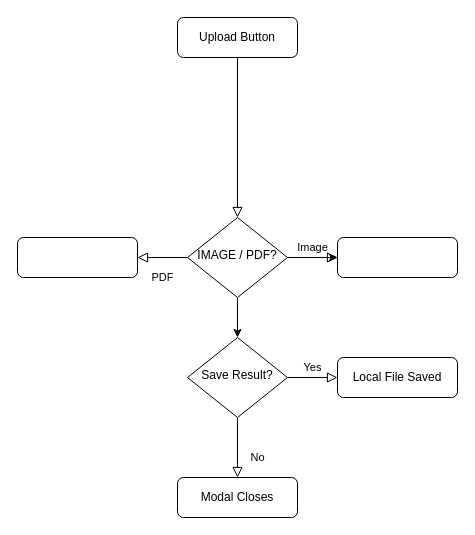
This 475x535 diagram has some shape labels left out. Each missing label, with the centre of its shape:
"OCR on Image" belongs at [397,257].
"OCR on PDF" belongs at [77,257].
